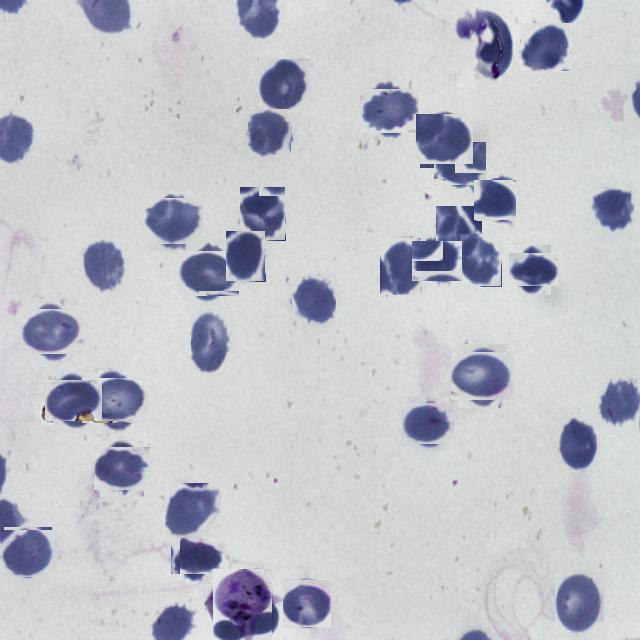red blood cell: (555, 572, 605, 637), (87, 373, 143, 429), (165, 483, 221, 539), (455, 348, 511, 403), (25, 304, 80, 359), (144, 194, 198, 248), (418, 112, 472, 166), (182, 247, 236, 300), (436, 206, 482, 267), (259, 59, 310, 114), (364, 85, 416, 137), (2, 528, 54, 580), (380, 237, 426, 294), (190, 310, 230, 374), (82, 238, 127, 294), (97, 444, 147, 494), (48, 376, 98, 426), (520, 23, 571, 72), (240, 187, 286, 241), (458, 234, 502, 287), (404, 400, 452, 448), (284, 580, 332, 628), (436, 140, 484, 188), (292, 276, 336, 328), (558, 418, 600, 472), (247, 110, 293, 156), (174, 534, 220, 580), (414, 238, 459, 284), (226, 231, 266, 282), (592, 189, 634, 233), (513, 249, 555, 291), (474, 179, 516, 220)
trophozoite: (210, 572, 276, 640)
